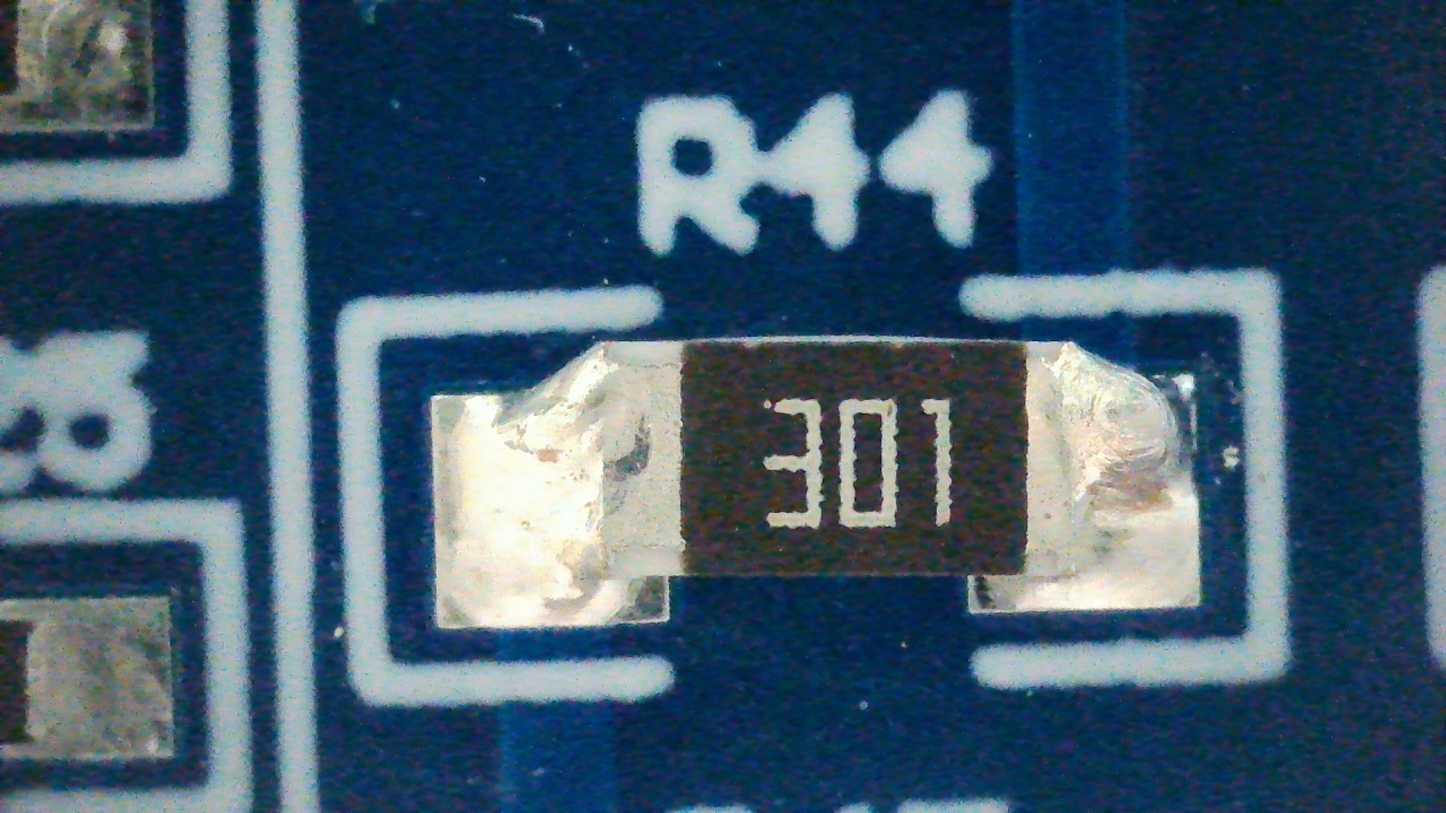NG: (433, 341, 1199, 627)
